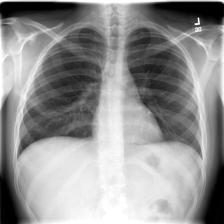normal: (14, 22, 205, 164)
